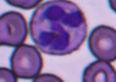N: (30, 1, 88, 56)
